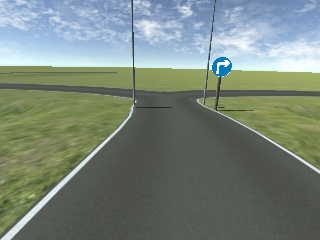right: (211, 57, 232, 77)
